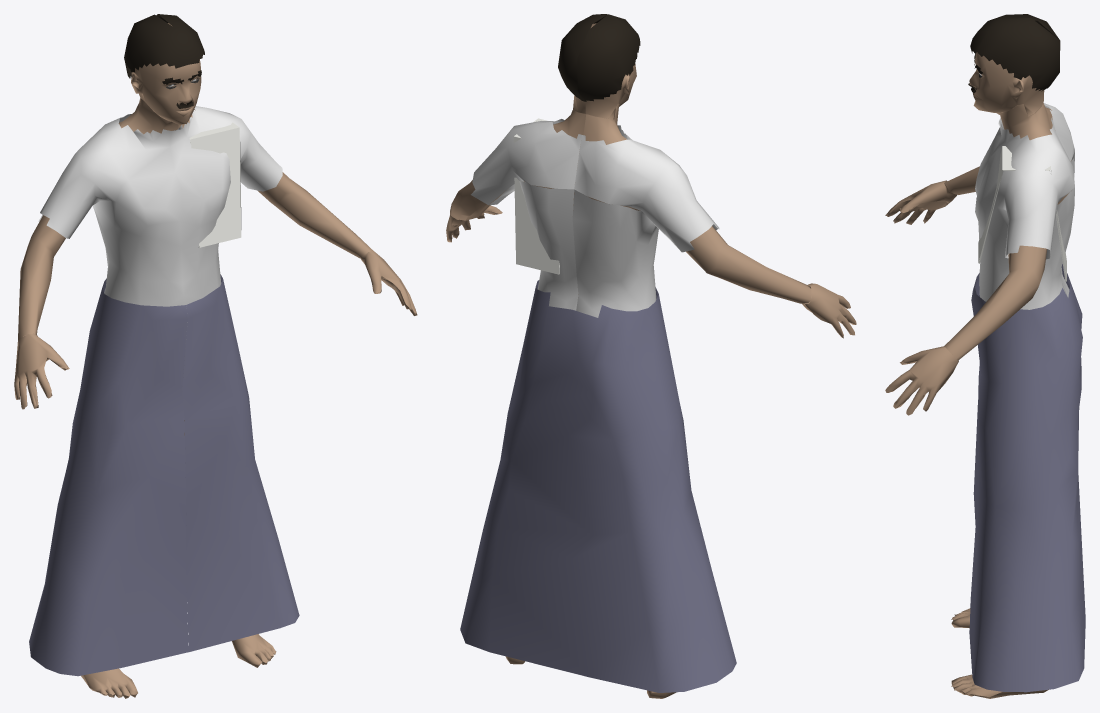
The model's file is man_03.glb.
3 views of the same model, side by side, from view 1: azimuth 30°, elevation 25°; view 2: azimuth 150°, elevation 25°; view 3: azimuth 270°, elevation 25° (orthographic).
Parts seen in each view (by area): view 1: crowd; view 2: crowd; view 3: crowd.
Part boxes in pixels (left/top/right/bottom): crowd: left=14, top=14, right=417, bottom=698; crowd: left=446, top=14, right=856, bottom=698; crowd: left=885, top=14, right=1085, bottom=698.
Bounding box in the file's own units: 1.13 × 1.75 × 0.4979.
